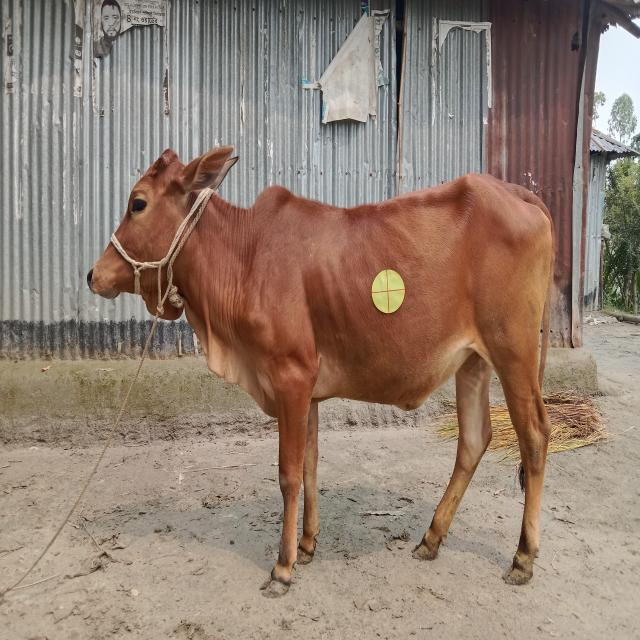badan_sapi: (248, 203, 551, 411)
sapi: (77, 128, 567, 591)
